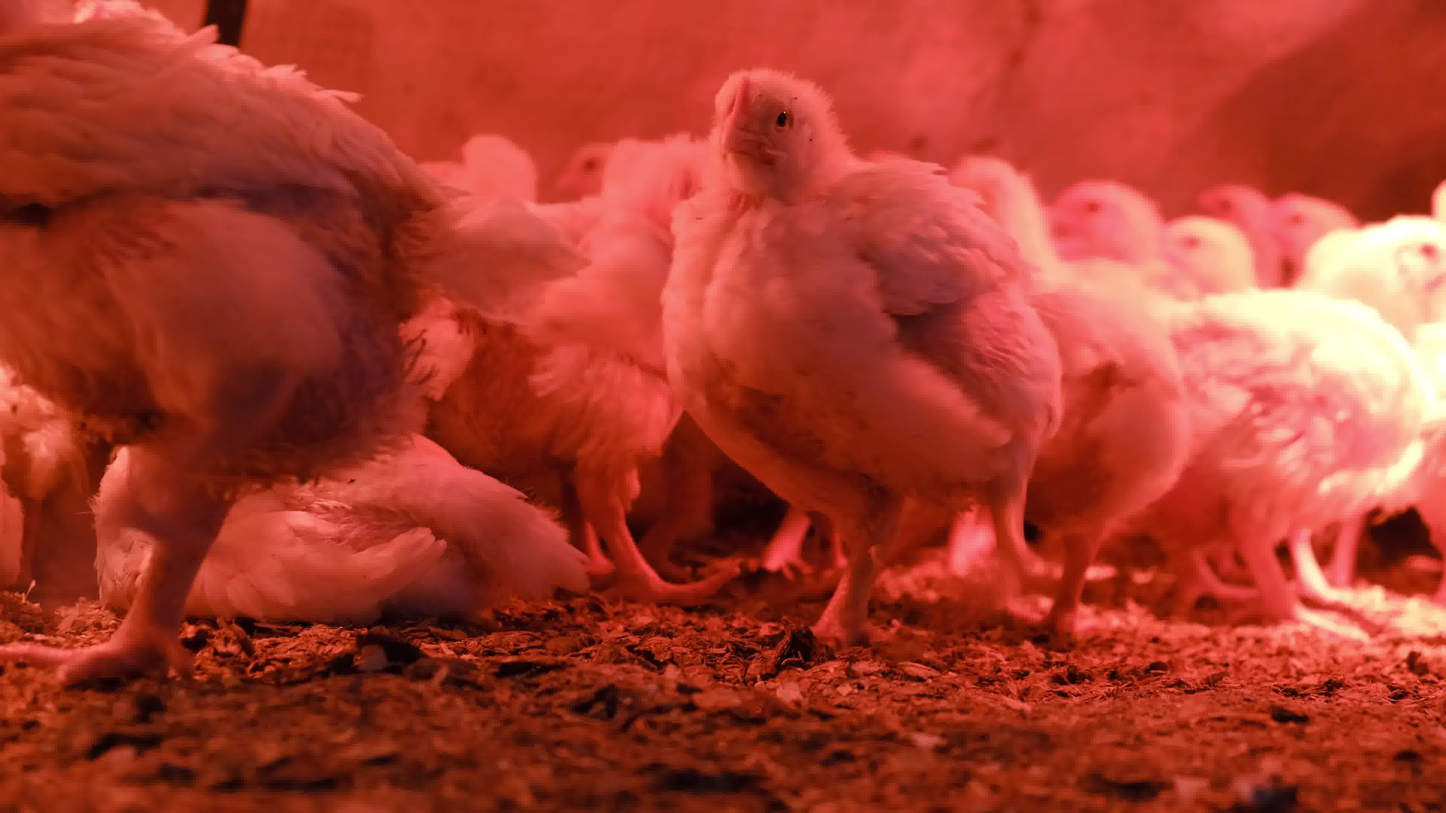AbNormal: (82, 396, 586, 625), (0, 356, 68, 610)
Normal: (0, 0, 600, 696), (661, 68, 1061, 663), (420, 136, 712, 632), (947, 153, 1204, 651), (1161, 211, 1446, 628), (1048, 177, 1162, 304), (1203, 179, 1275, 306), (1158, 222, 1260, 304), (1280, 189, 1371, 276), (560, 136, 626, 200)
